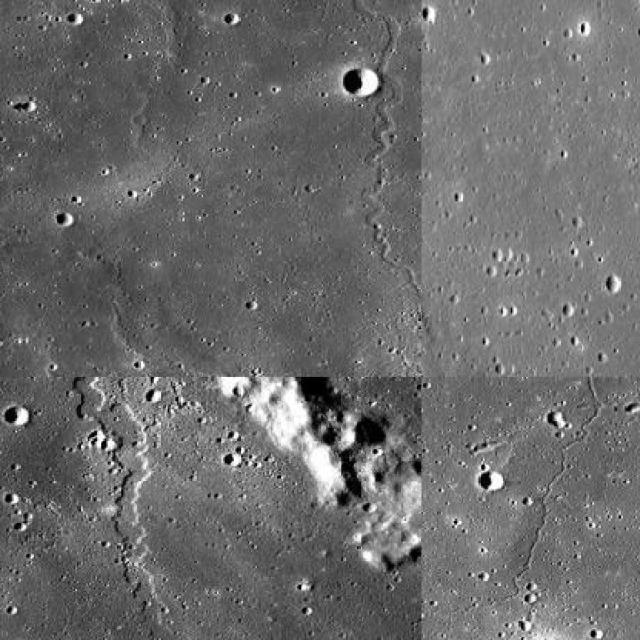rille: (186, 0, 420, 375), (55, 377, 332, 638), (422, 377, 623, 638)
